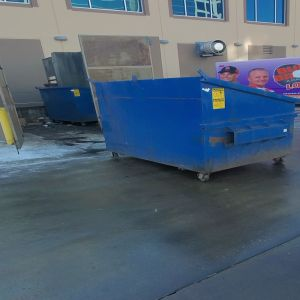Dumpster: (96, 87, 298, 183)
Person: (248, 66, 271, 90)
